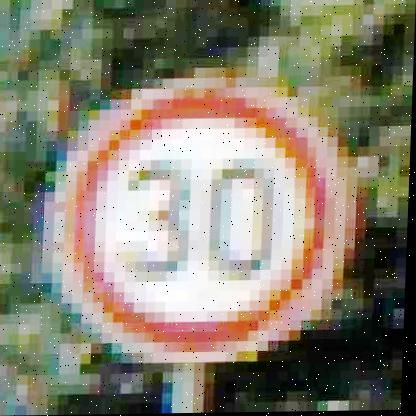Speed Limit -30-: (43, 76, 357, 366)
